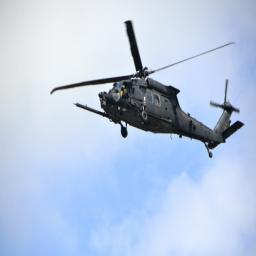helicopter: (52, 20, 250, 159)
